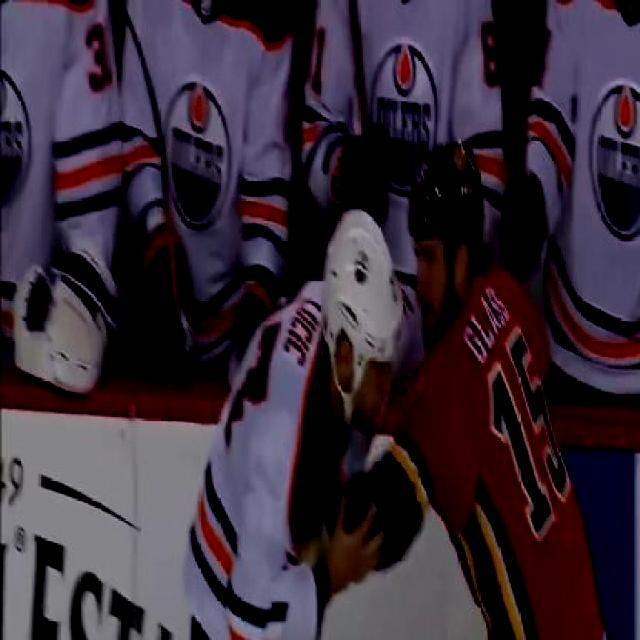fight: (226, 136, 569, 638)
